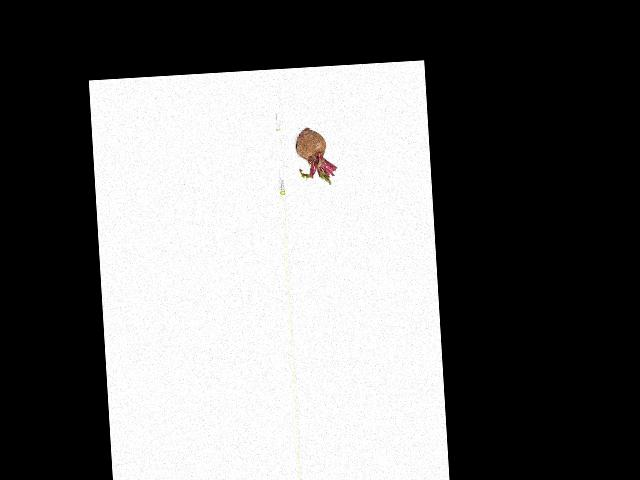beet: (295, 125, 337, 186)
